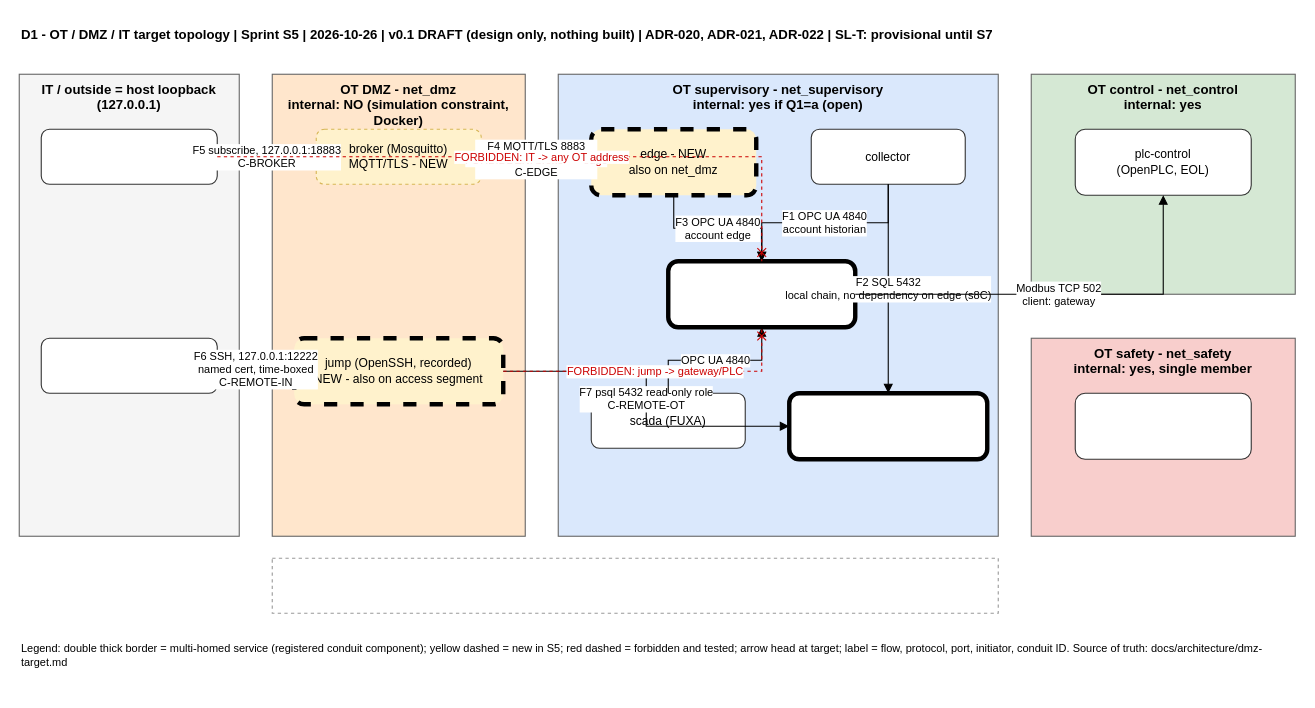
The diagram is 1315 pixels wide and 708 high, and some of its shapes have lost their labels. The shapes that lost their labels are listed below. From the top down, each one's centre as x and y in pixels, then its label:
point (128, 156): cloud stand-in consumer (host process)
point (761, 293): gateway also on net_control
point (128, 365): vendor client (host process)
point (888, 426): historian (TimescaleDB) also on access segment
point (1162, 425): plc-safety (SIS) no arrow in or out
point (634, 585): Access segment net_remote_historian (internal, jump + historian only)
